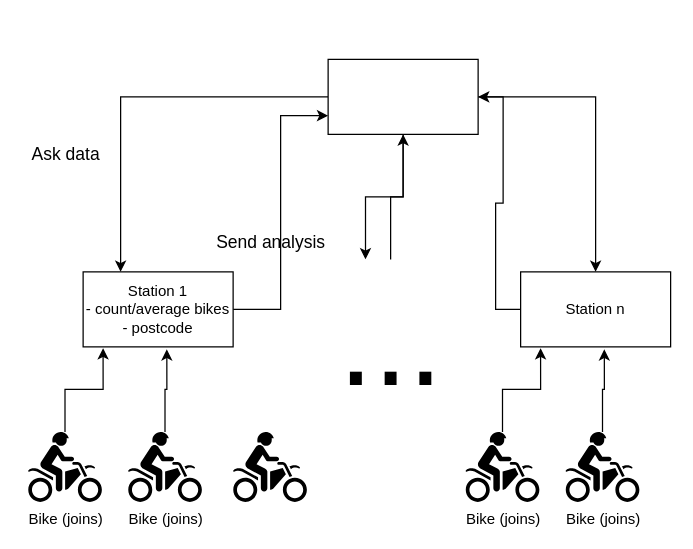
The diagram is 693 pixels wide and 549 high, and some of its shapes have lost their labels. The box of each missing label's shape, as (x1, y1, x2, y2) in pixels:
Bike (leaves): (232, 431, 306, 501)
Central authority - total sum/average bikes: (327, 58, 478, 134)
